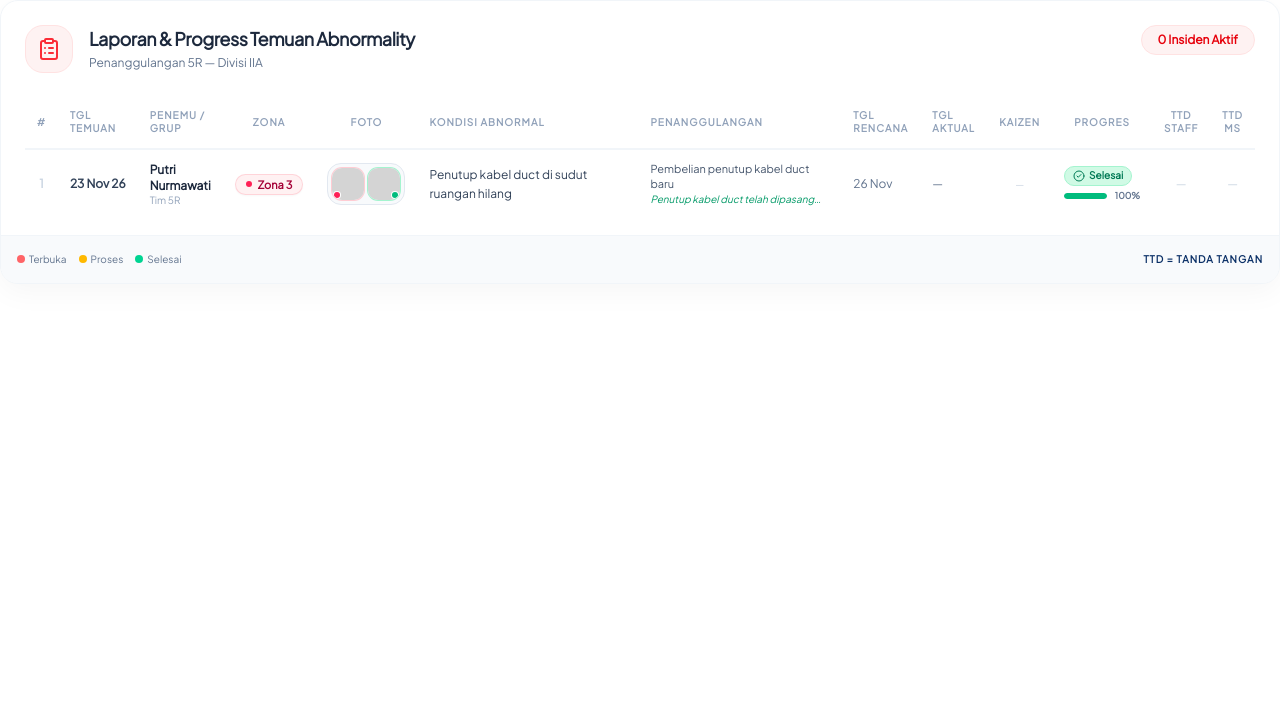
Test: AbnormalityFeed photo thumbnails and lightbox modal › opens directly into Before/After comparison mode when both evidence and resolution photos exist
This screenshot has width=1280, height=720.
Click the button named "Bandingkan foto sebelum & sesudah Zona 3".
click(366, 184)  # box [327,163,405,205]
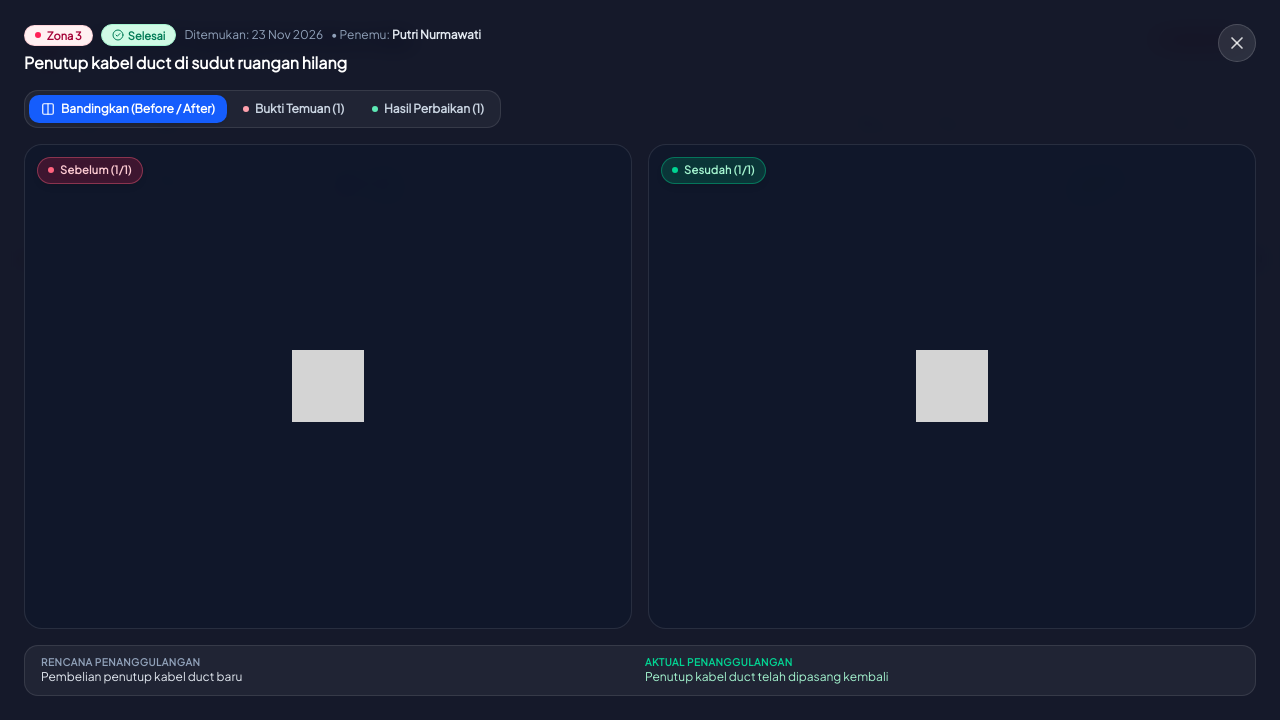
Expected: the text "Sebelum (1/1)" is shown, [37,157,143,184]
Expected: the text "Sesudah (1/1)" is shown, [661,157,766,184]
Expected: the text "Penutup kabel duct telah dipasang kembali" is shown, [645,669,888,684]
